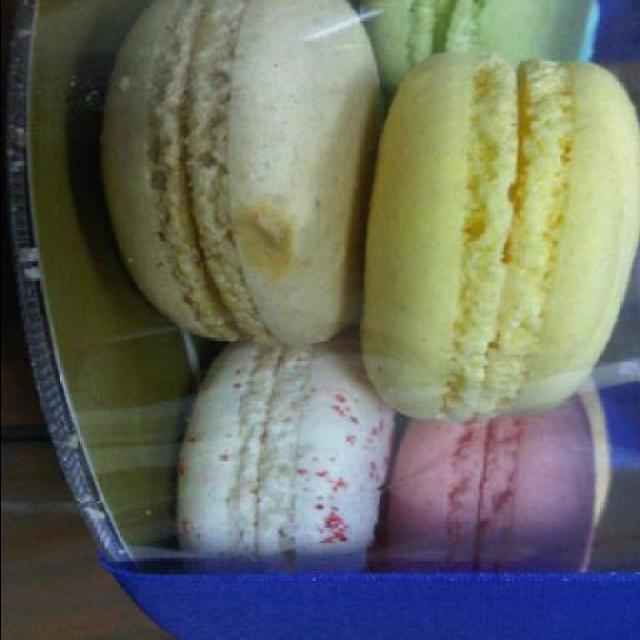Macaron: (105, 2, 637, 580)
